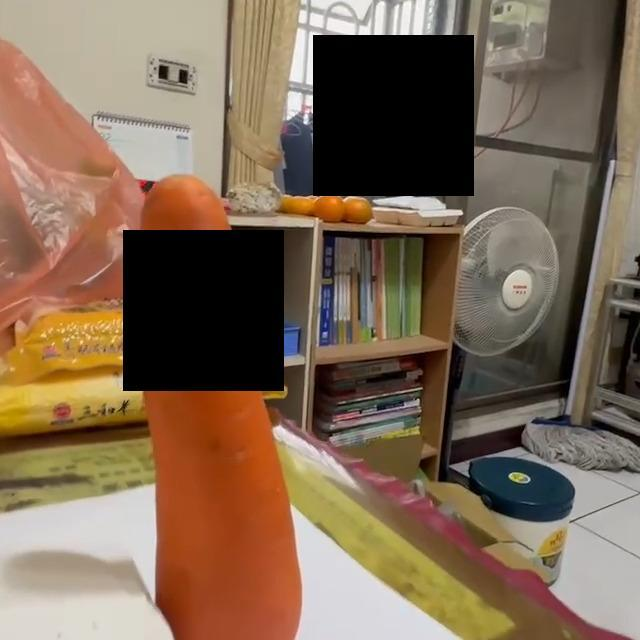carrot: (131, 174, 306, 640)
